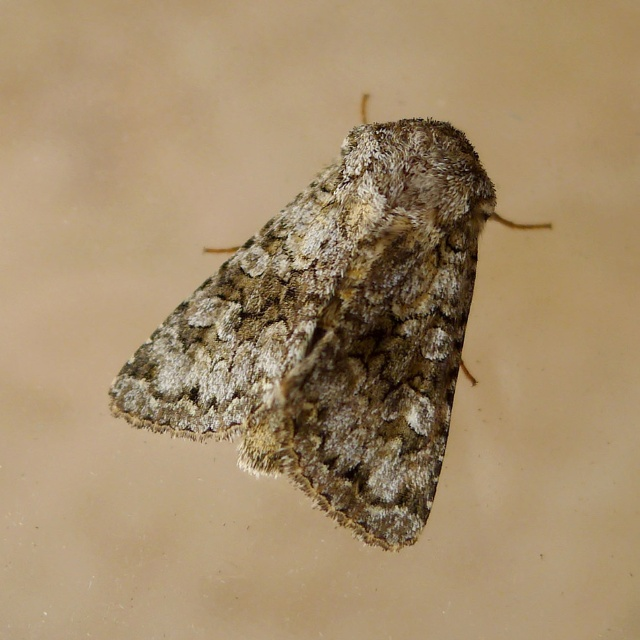Butterfly: (105, 93, 560, 557)
